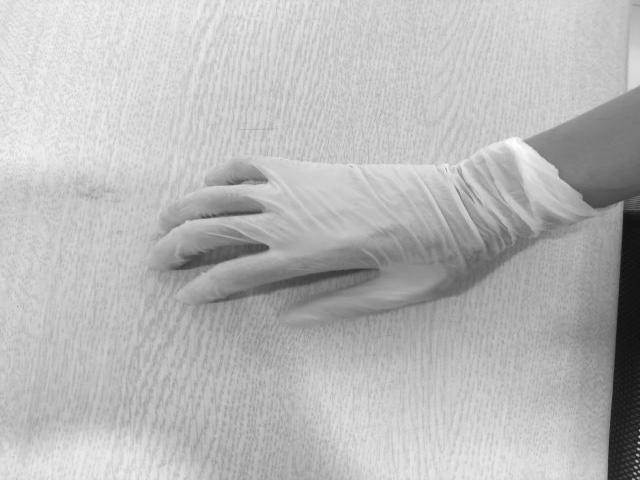gloved: (152, 155, 470, 324)
